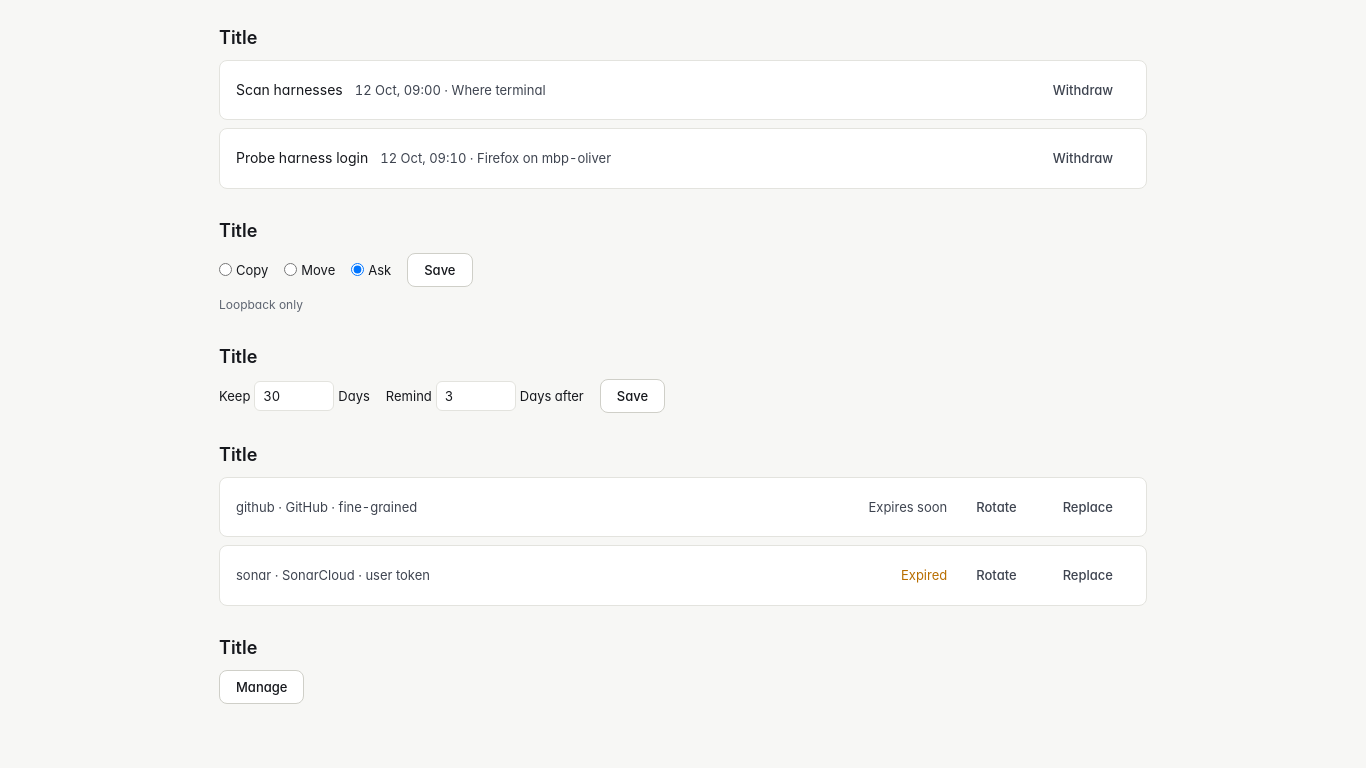
Test: MachineSettingsView against the mock runtime states › stores a rotated token and never shows it again
(page scrolled)
Click the button with test id "rotate-github" at {"x": 996, "y": 507}, box [959,490,1034,524]
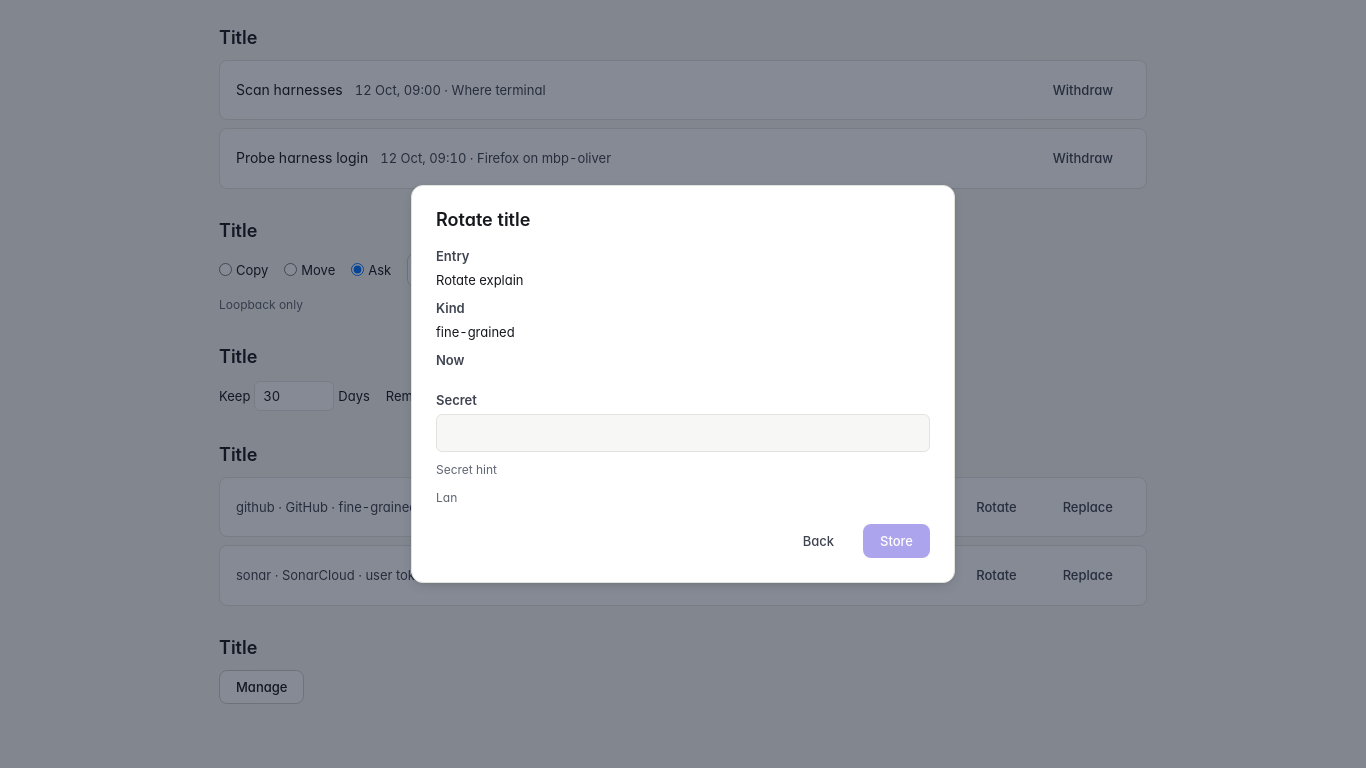
Expected: the dialog with test id "rotate-modal" is shown
Type "ghp_new_secret" into the password field with test id "rotate-secret" at {"x": 683, "y": 433}, box [436,414,930,452]
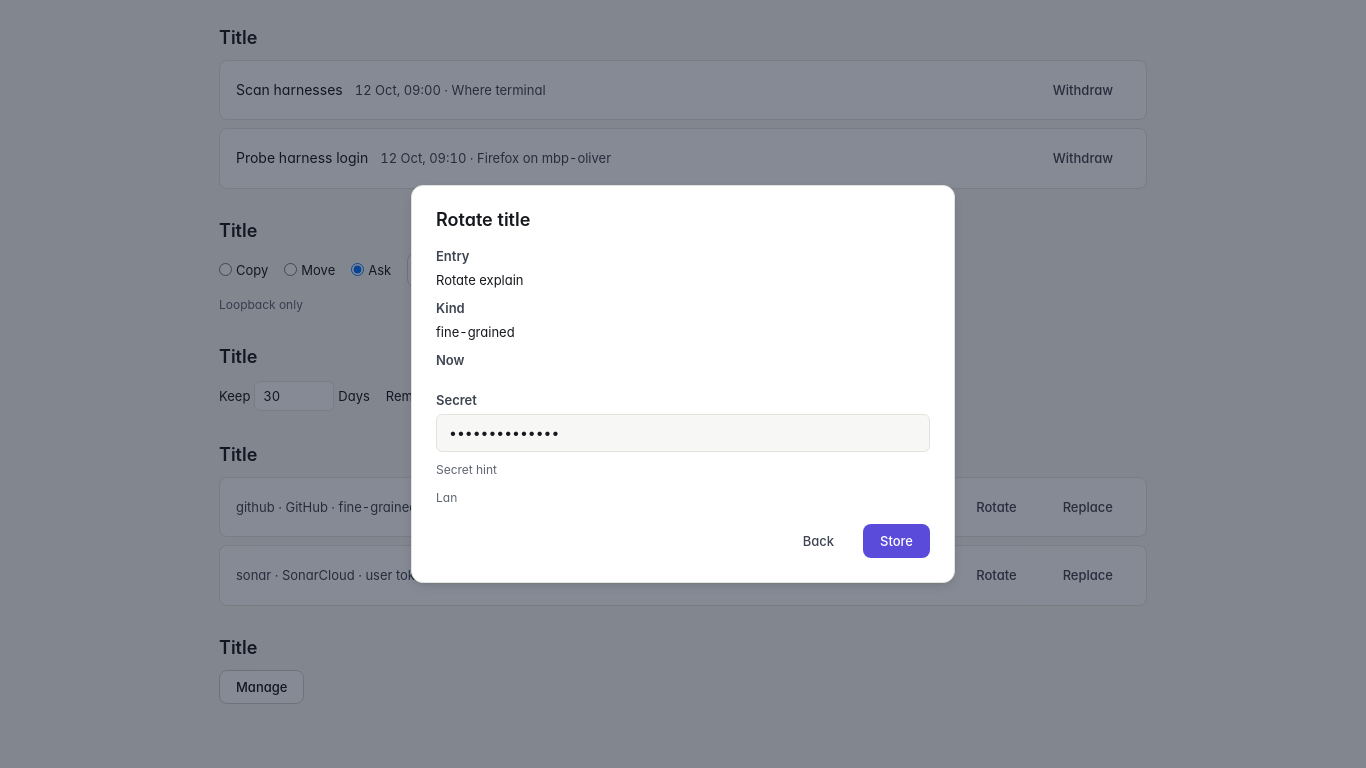
Click the button with test id "rotate-save" at {"x": 896, "y": 541}, box [863,524,930,558]
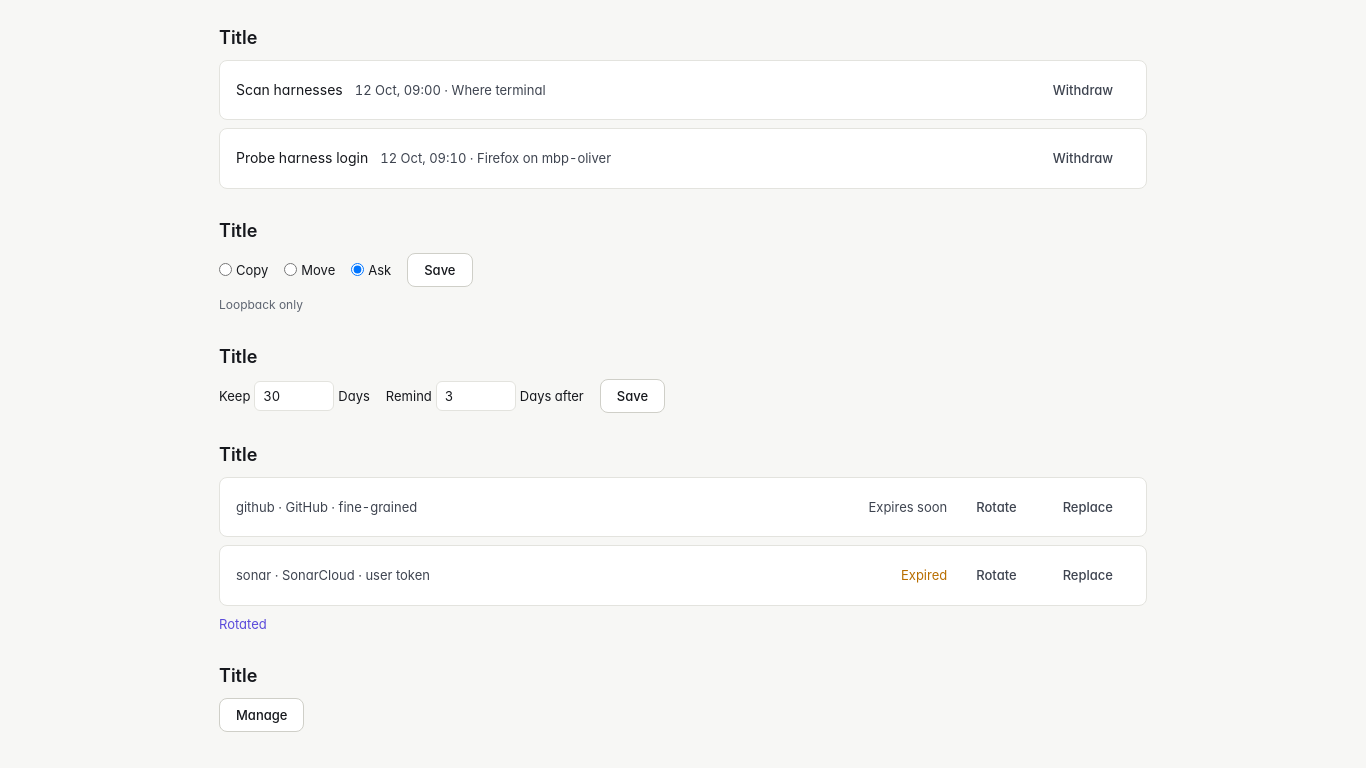
Expected: the text "Rotated" is shown, [219,616,267,632]
Expected: the dialog with test id "rotate-modal" is gone
